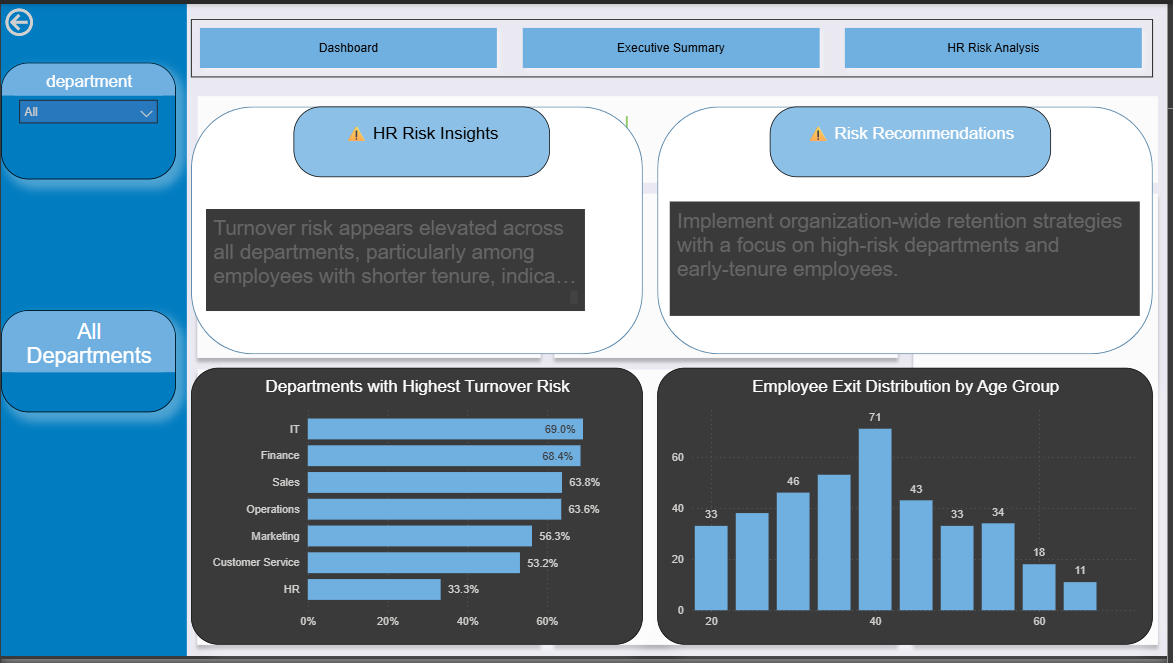

This screenshot's page, from the dashboard's own definition file:
{"tool":"powerbi","page":{"name":"HR Risk Analysis","canvas":[1280,720],"ordinal":2},"visuals":[{"type":"shape","box":[208,112,496,272],"z":0,"group":"g1"},{"type":"shape","box":[720,112,544,272],"z":0,"group":"g2"},{"type":"barChart","title":"Departments with Highest Turnover Risk","fields":{"Category":["hr_final_clean.department"],"Y":["hr_final_clean.Turnover Rate"]},"box":[208,400,496,304],"z":0},{"type":"textbox","box":[320.7,112,281.8,77.7],"z":1000,"group":"g1"},{"type":"textbox","box":[843.6,112,309.1,77.7],"z":1000,"group":"g2"},{"type":"clusteredColumnChart","title":"Employee Exit Distribution by Age Group","fields":{"Category":["hr_final_clean.age (bins)"],"Y":["hr_final_clean.Terminated Employees"]},"box":[720,400,544,304],"z":1000},{"type":"slicer","title":"department","fields":{"Values":["hr_final_clean.department"]},"box":[0,64,192,128],"z":2000},{"type":"textbox","box":[733.9,216.6,516.1,125.5],"z":2000,"group":"g2"},{"type":"textbox","box":[224,224,416,112],"z":2000,"group":"g1"},{"type":"pageNavigator","box":[208,16,1056,64],"z":5000},{"type":"actionButton","box":[0,0,100,40],"z":6000},{"type":"actionButton","box":[0,0,100,40],"z":7000},{"type":"textbox","box":[0,336,192,112],"z":8000},{"type":"group","id":"g1","title":"Group 2","box":[208,112,496,272],"z":9000},{"type":"group","id":"g2","title":"Group 1","box":[720,112,544,272],"z":10000}]}

Visuals, with their boxes in screenshot pixels (x1, y1, x2, y2), scaled from the page's 1280x720 canvas onto the 1173x663 screenshot:
shape: rect(191, 103, 645, 354)
shape: rect(660, 103, 1158, 354)
"Departments with Highest Turnover Risk" barChart: rect(191, 368, 645, 648)
textbox: rect(294, 103, 552, 175)
textbox: rect(773, 103, 1056, 175)
"Employee Exit Distribution by Age Group" clusteredColumnChart: rect(660, 368, 1158, 648)
"department" slicer: rect(0, 59, 176, 177)
textbox: rect(673, 199, 1146, 315)
textbox: rect(205, 206, 586, 309)
pageNavigator: rect(191, 15, 1158, 74)
actionButton: rect(0, 0, 92, 37)
actionButton: rect(0, 0, 92, 37)
textbox: rect(0, 309, 176, 413)
"Group 2" group: rect(191, 103, 645, 354)
"Group 1" group: rect(660, 103, 1158, 354)
